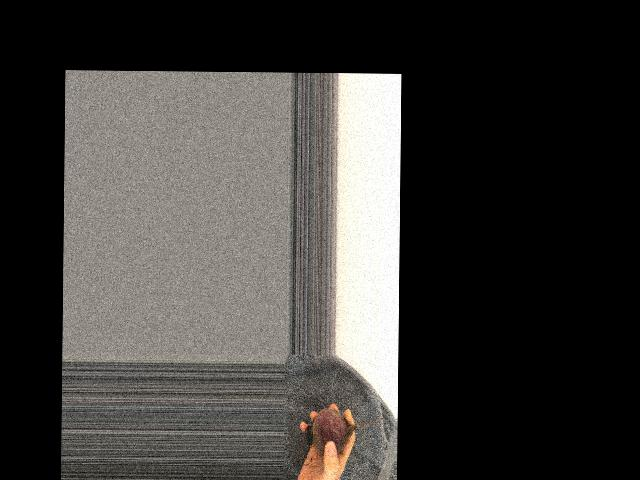beet: (306, 407, 384, 456)
